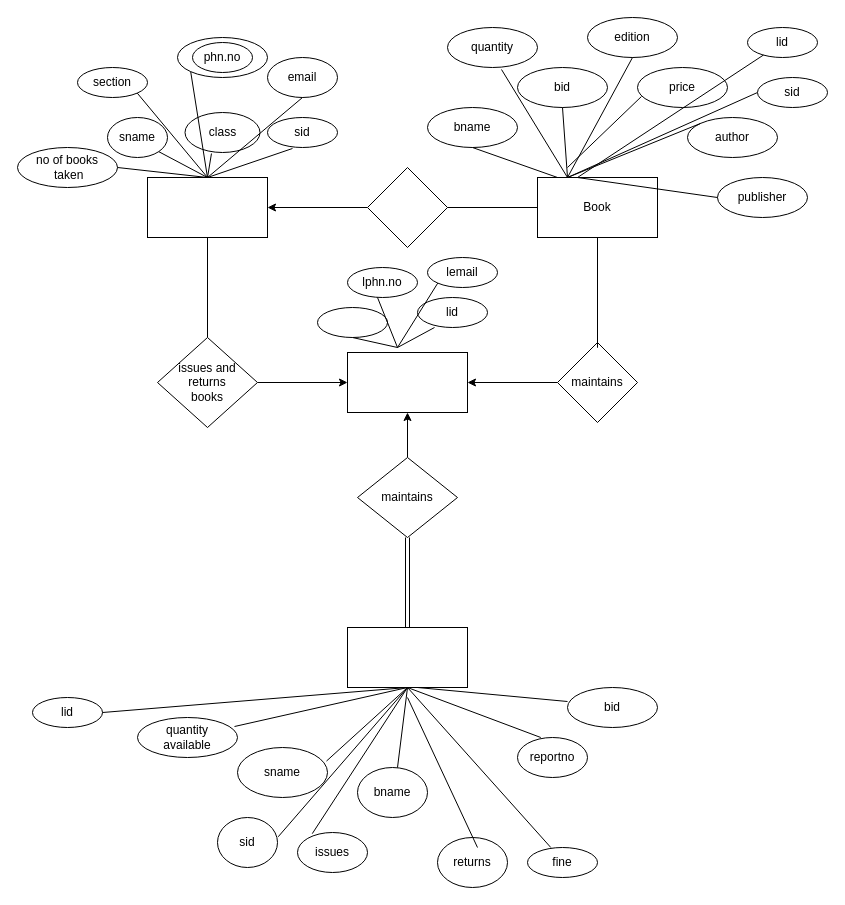
This 845x905 diagram has some shape labels left out. Each missing label, with the centre of its shape:
"Librarian" belongs at pixel 407 382.
"lname" belongs at pixel 352 322.
"Records" belongs at pixel 407 657.
"requests" belongs at pixel 407 207.
"Student" belongs at pixel 207 207.
